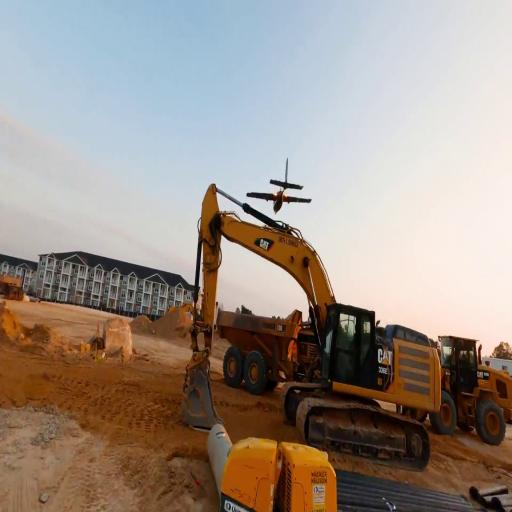uav: (245, 158, 314, 221)
